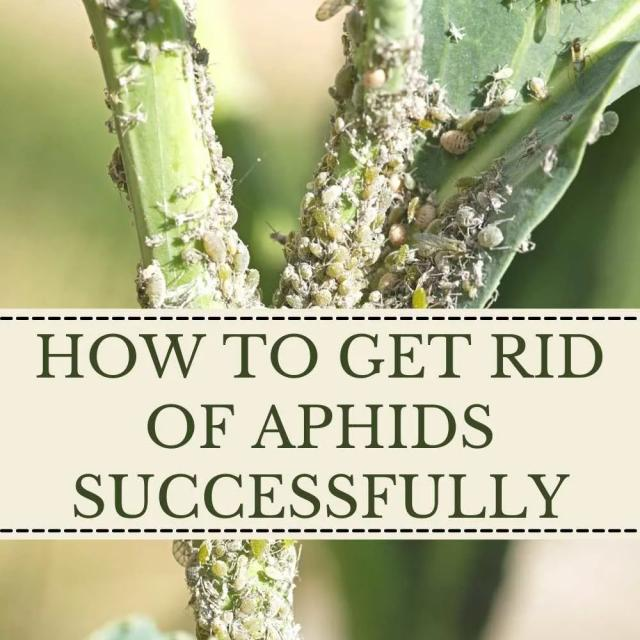Aphid-Grouped-: (282, 60, 468, 306), (133, 191, 261, 311), (168, 539, 320, 638)
